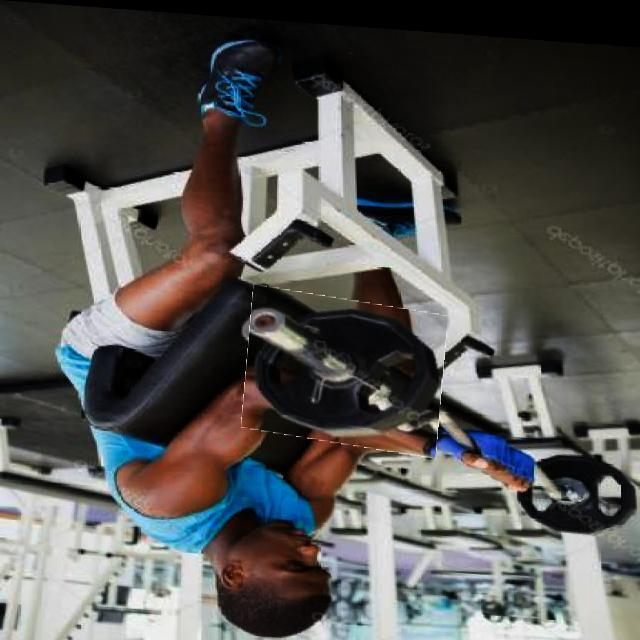barbell: (245, 285, 446, 449)
